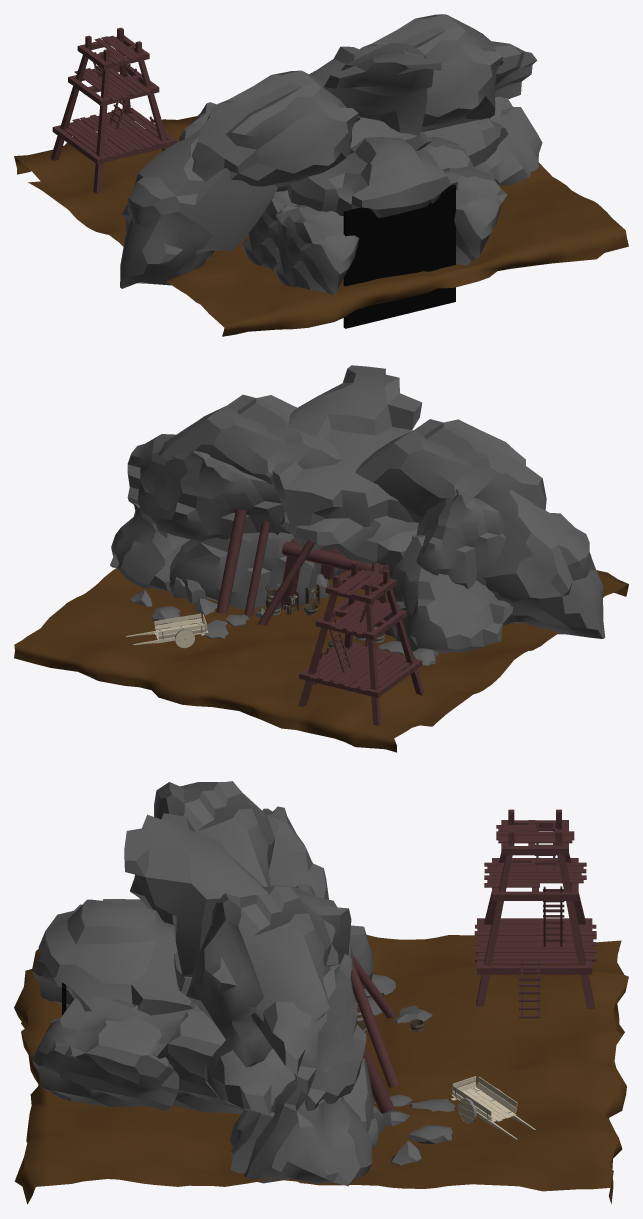
Rendered from Mine.fbx.
3 views of the same model, one above another, from view 1: azimuth 30°, elevation 25°; view 2: azimuth 150°, elevation 25°; view 3: azimuth 270°, elevation 25° (orthographic). The views are drawn at different scales.
Parts seen in each view (by area): view 1: polySurface31, pasted__Floor, pCube18, pCube23, pCube31; view 2: polySurface31, pasted__Floor, pCube23, pasted__pCube40, pCylinder2, pCylinder4, pCylinder1, pCylinder27; view 3: polySurface31, pasted__Floor, pCube23, pasted__pCube40, pCylinder27, pCube36, pCube26, pCylinder2, polySurface2, pCube77, pasted__polySurface3159, pCylinder3 (+1 smaller).
Part boxes in pixels (x1,y1,x2,y2): polySurface31: [120, 14, 542, 294]; pasted__Floor: [14, 116, 628, 336]; pCube18: [343, 184, 455, 328]; pCube23: [50, 27, 168, 193]; pCube31: [94, 138, 175, 163]; polySurface31: [110, 365, 605, 652]; pasted__Floor: [14, 568, 628, 752]; pCube23: [298, 562, 424, 725]; pasted__pCube40: [126, 613, 208, 648]; pCylinder2: [216, 509, 246, 614]; pCylinder4: [282, 541, 386, 574]; pCylinder1: [244, 521, 269, 616]; pCylinder27: [258, 540, 314, 625]; polySurface31: [32, 781, 373, 1186]; pasted__Floor: [14, 935, 628, 1204]; pCube23: [475, 809, 594, 1009]; pasted__pCube40: [451, 1076, 535, 1139]; pCylinder27: [350, 960, 398, 1087]; pCube36: [492, 891, 578, 900]; pCube26: [477, 965, 585, 974]; pCylinder2: [363, 1044, 395, 1113]; polySurface2: [543, 886, 564, 946]; pCube77: [519, 958, 540, 1018]; pasted__polySurface3159: [408, 1125, 452, 1143]; pCylinder3: [353, 955, 396, 1018].
Size of the model in its own units: 29.26 by 14.08 by 26.77.
